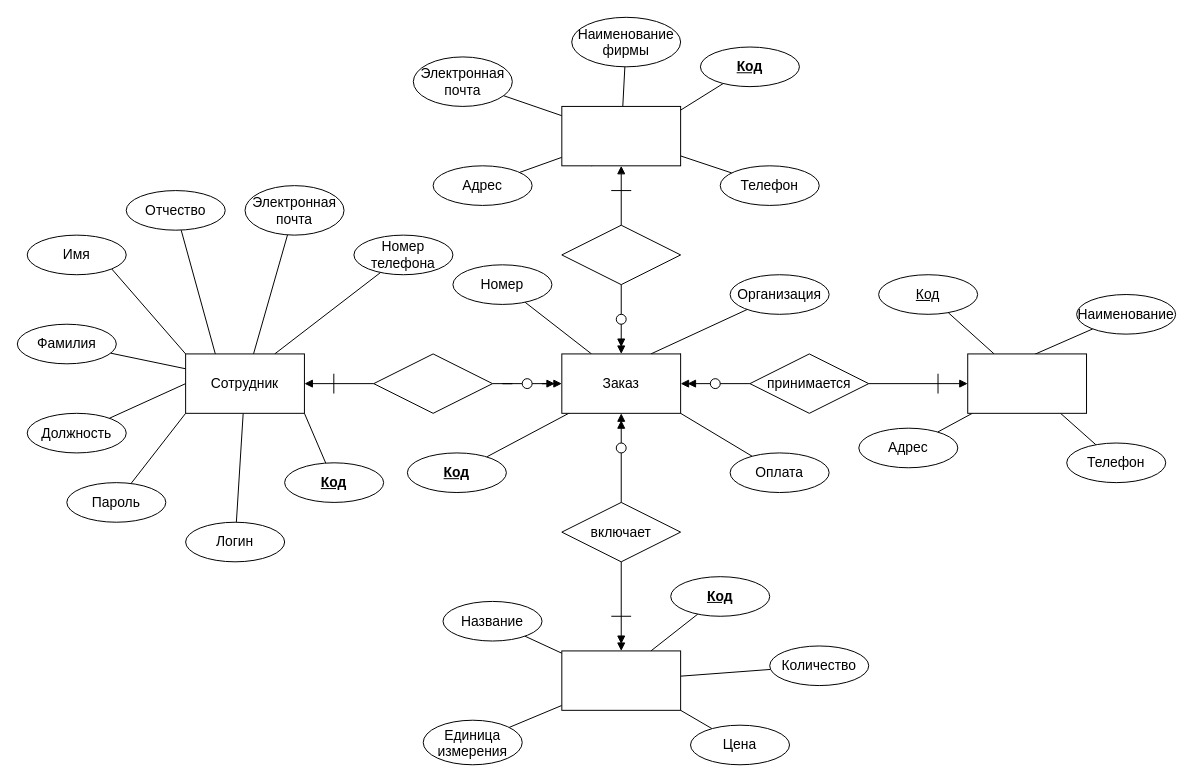
Image size: 1193x782. Some labels were removed from this diagram. The box of each missing label's shape, as (x1, y1, x2, y2) in pixels:
доставляет: (561, 224, 681, 285)
оформляет: (373, 353, 493, 413)
Постващик: (561, 105, 681, 166)
Склад: (967, 353, 1087, 413)
Товар: (561, 650, 681, 710)
